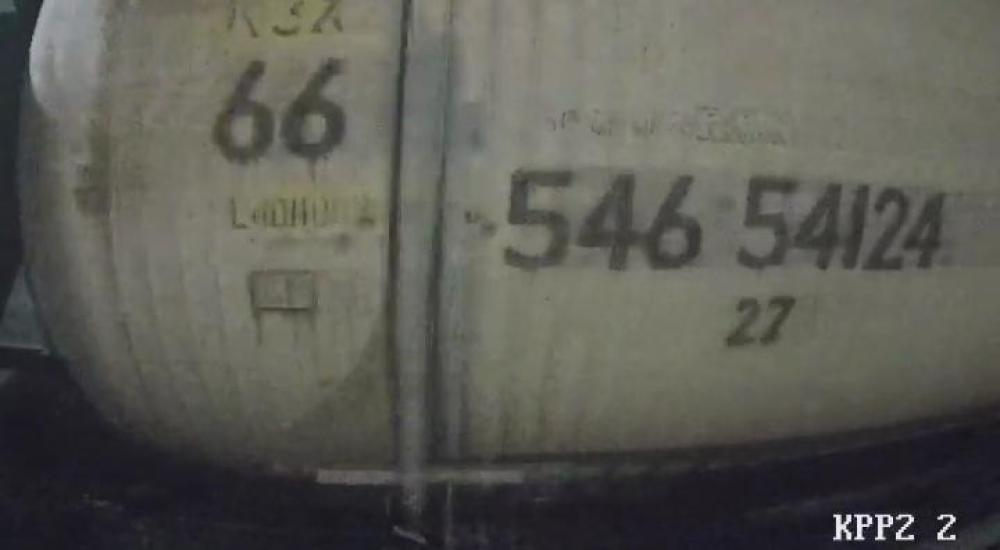Wagon-number: (499, 163, 949, 277)
